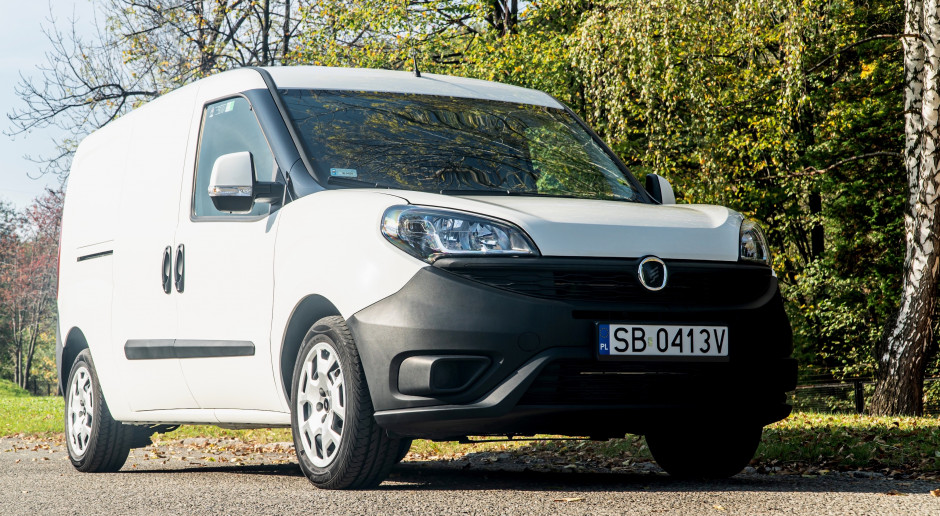tablica: (596, 323, 729, 357)
